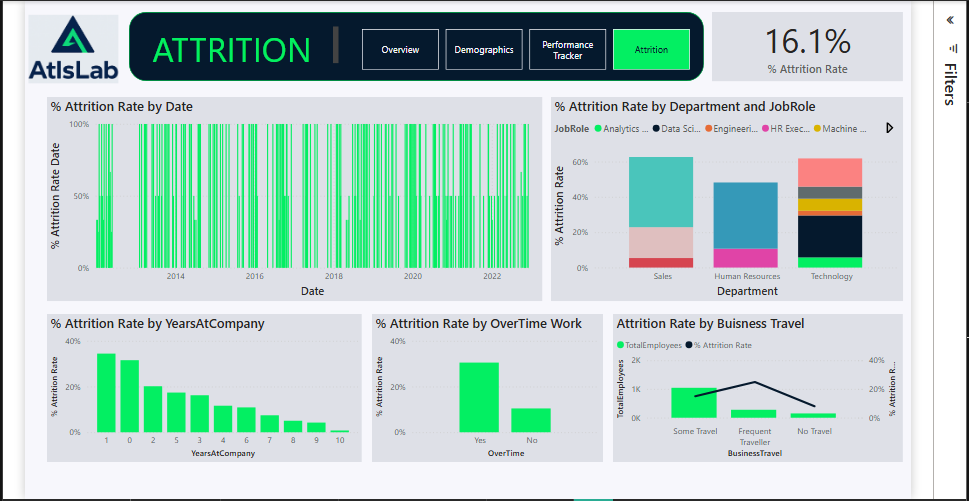

The dashboard page shown, as its layout file describes it:
{"tool":"powerbi","page":{"name":"Attrition","canvas":[1280,720],"ordinal":3},"visuals":[{"type":"shape","box":[150.4,15.9,831.3,99.8],"z":500},{"type":"card","fields":{"Values":["_measures.% Attrition Rate"]},"box":[993.3,15.9,276.1,99.8],"z":1000},{"type":"columnChart","fields":{"Category":["Employee.Department"],"Y":["_measures.% Attrition Rate"],"Series":["Employee.JobRole"]},"box":[760.5,138.8,508.9,294.9],"z":2000},{"type":"clusteredColumnChart","title":"% Attrition Rate  by Date","fields":{"Y":["_measures.% Attrition Rate Date"],"Category":["DimDate.Date"]},"box":[31.8,138.8,715.7,294.9],"z":3000},{"type":"lineStackedColumnComboChart","title":"Attrition Rate by Buisness Travel","fields":{"Y":["_measures.TotalEmployees"],"Y2":["_measures.% Attrition Rate"],"Category":["Employee.BusinessTravel"]},"box":[850.1,452.5,419.3,214],"z":4000},{"type":"columnChart","title":"% Attrition Rate by OverTime Work","fields":{"Category":["Employee.OverTime"],"Y":["_measures.% Attrition Rate"]},"box":[501.7,452.5,334,214],"z":5000},{"type":"columnChart","fields":{"Y":["_measures.% Attrition Rate"],"Category":["Employee.YearsAtCompany"]},"box":[31.8,452.5,455.4,214],"z":6000},{"type":"textbox","box":[179.3,31.8,279,68],"z":7000},{"type":"image","box":[0,0,140.2,138.8],"z":8000},{"type":"pageNavigator","box":[487.2,40.5,477.1,59.3],"z":9000}]}

Visuals, with their boxes on the page's 1280x720 design canvas (x1, y1, x2, y2). These are canvas units, not pixel positions in the 969x501 screenshot, which may show the page scaled, cropped or inside an application window:
shape: 150 16 982 116
card - _measures.% Attrition Rate: 993 16 1269 116
columnChart - Employee.Department x _measures.% Attrition Rate: 760 139 1269 434
"% Attrition Rate  by Date" clusteredColumnChart: 32 139 748 434
"Attrition Rate by Buisness Travel" lineStackedColumnComboChart: 850 452 1269 666
"% Attrition Rate by OverTime Work" columnChart: 502 452 836 666
columnChart - _measures.% Attrition Rate x Employee.YearsAtCompany: 32 452 487 666
textbox: 179 32 458 100
image: 0 0 140 139
pageNavigator: 487 40 964 100
